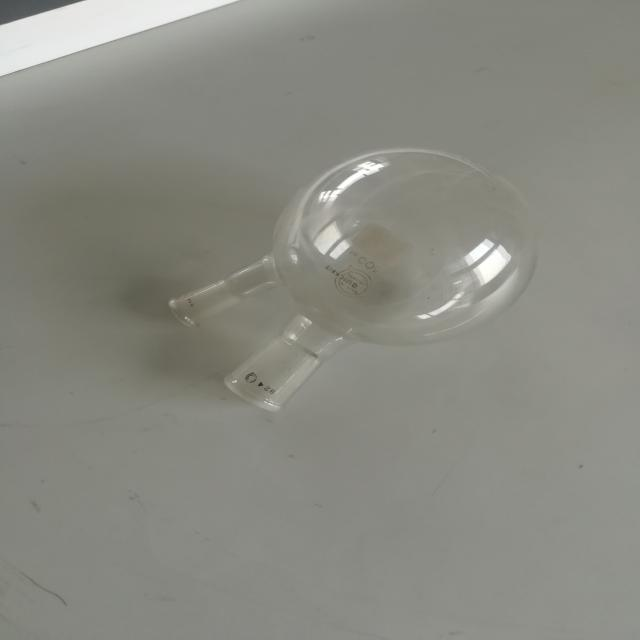Round_Bottom_Flask_Borosilicate_Glass_2_Neck: (132, 102, 576, 447)
